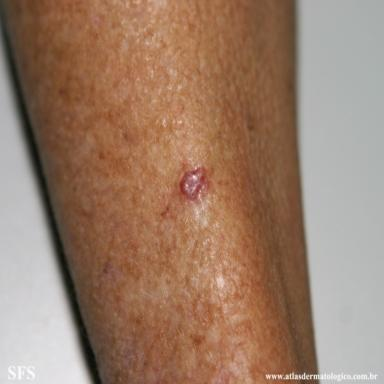basal-cell-carcinoma: (181, 167, 205, 199)
